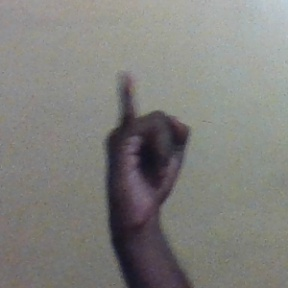I: (105, 67, 197, 230)
